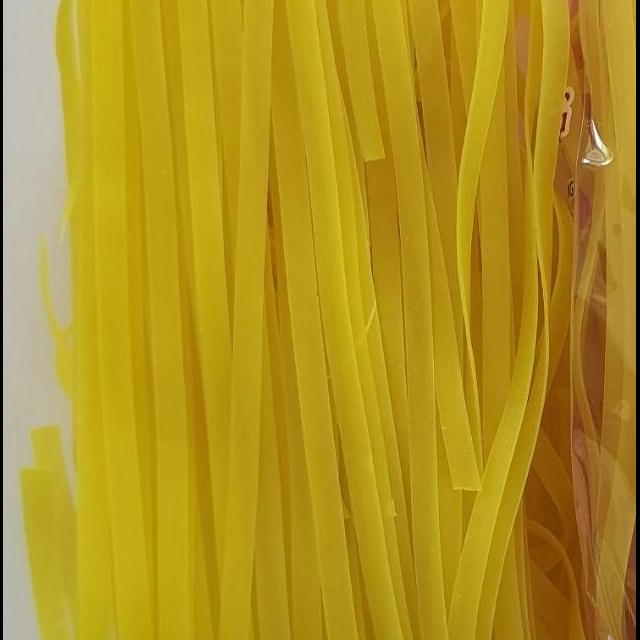mi: (8, 0, 636, 640)
